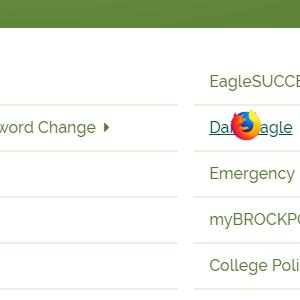firefox: (231, 109, 261, 141)
